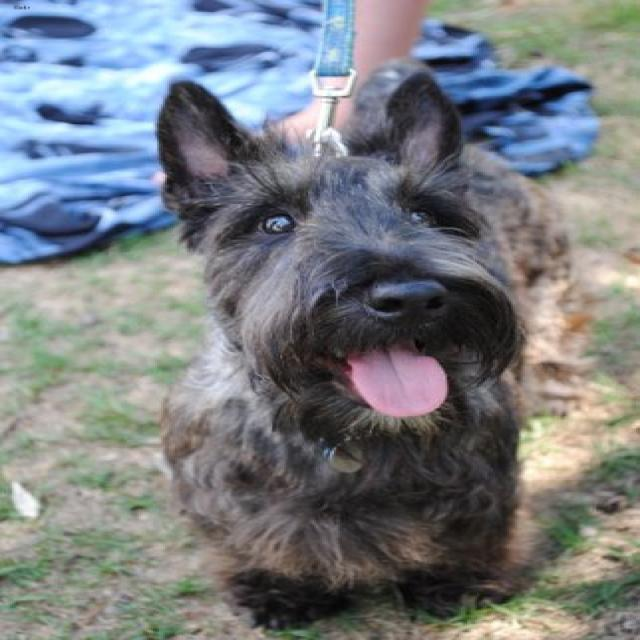dog-scottish_terrier: (137, 44, 606, 637)
